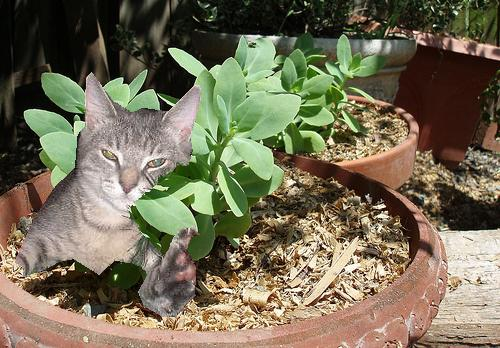tampered: (16, 73, 201, 317)
